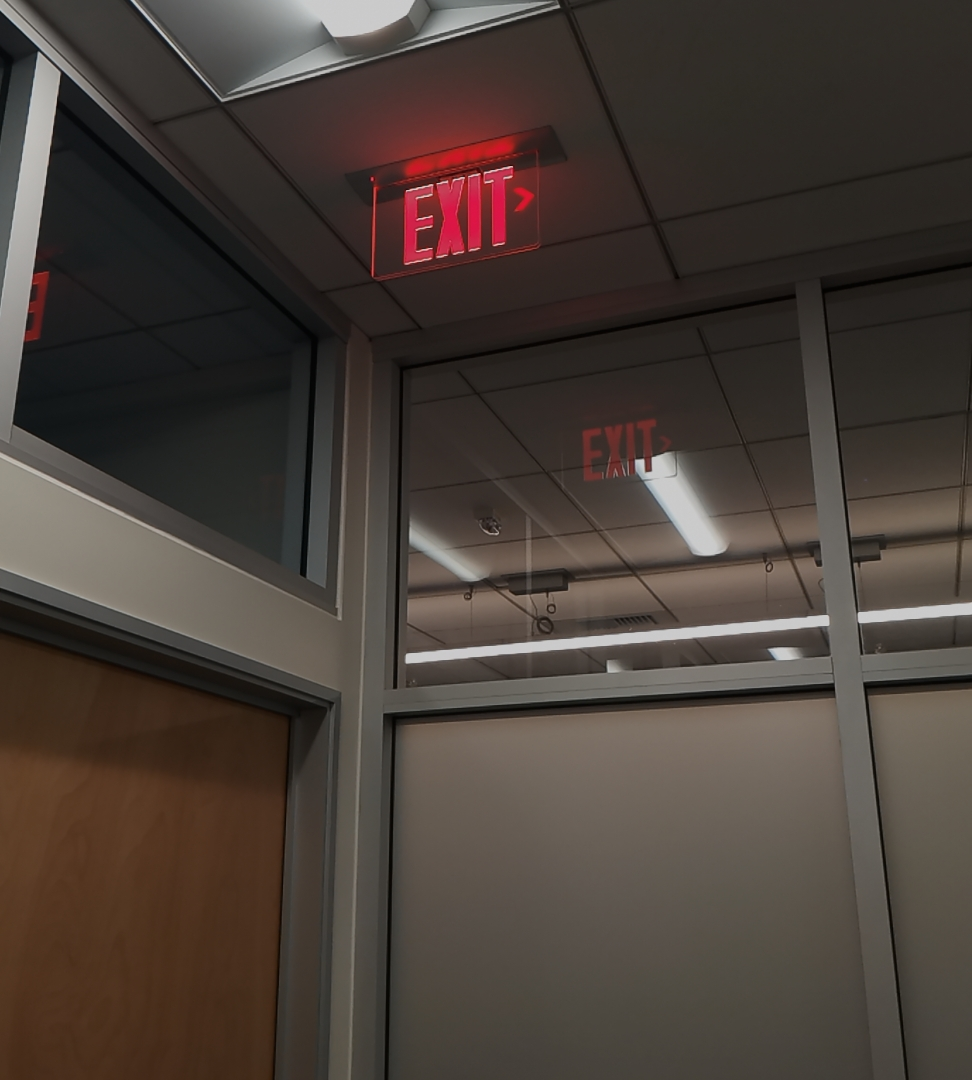emergency_exit: (367, 140, 546, 282)
